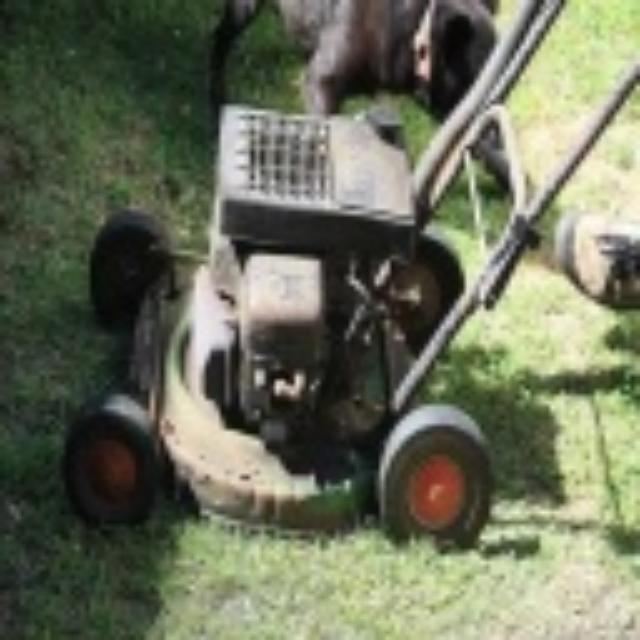Rotary-Mower: (55, 0, 635, 550)
